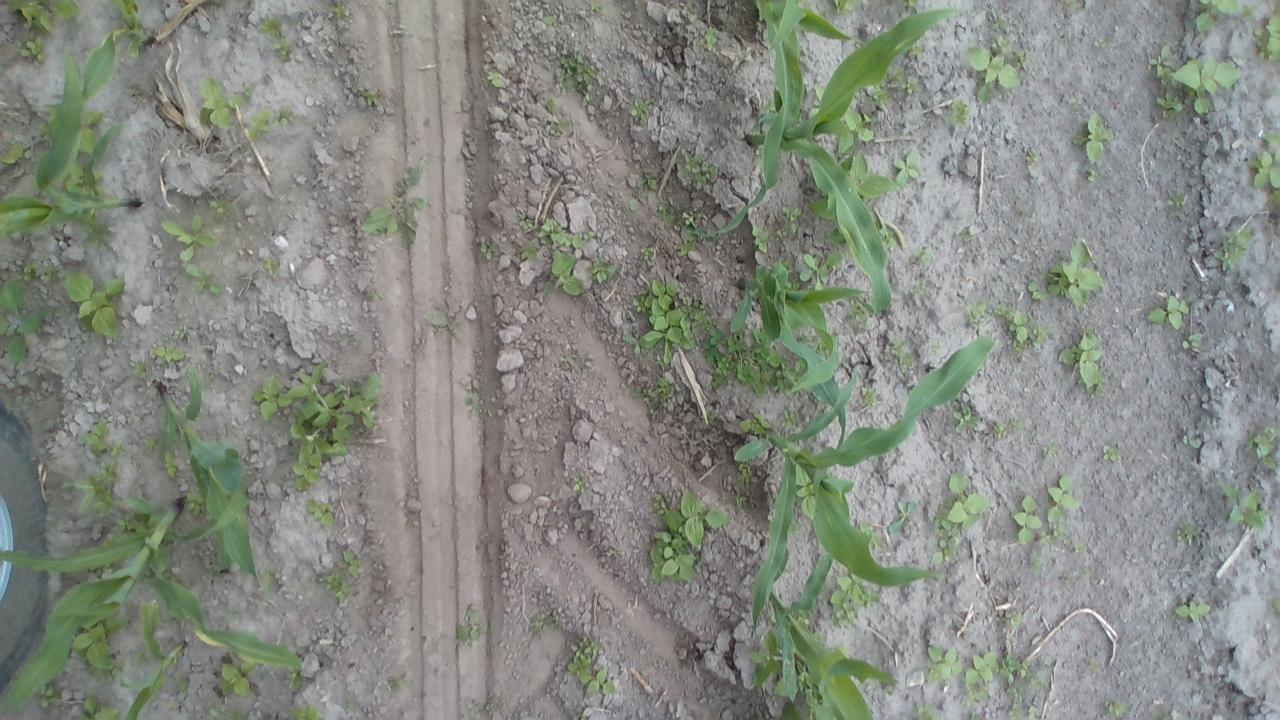Maize: (734, 332, 998, 638), (741, 4, 964, 317), (0, 493, 304, 720), (686, 0, 853, 238), (0, 25, 147, 234), (150, 369, 270, 585), (727, 263, 866, 447), (759, 555, 899, 720), (123, 597, 189, 720), (114, 0, 154, 57)
Weeds: (254, 362, 382, 494), (646, 487, 722, 582), (632, 276, 704, 368), (700, 322, 784, 396), (362, 158, 430, 243), (56, 271, 125, 346), (0, 273, 53, 360), (1172, 56, 1239, 118), (1050, 238, 1104, 304), (968, 34, 1015, 108), (964, 652, 1026, 704), (69, 463, 124, 518), (72, 624, 124, 680), (1063, 329, 1107, 389), (161, 214, 218, 259), (196, 75, 242, 130), (570, 635, 614, 691), (947, 468, 992, 522), (830, 575, 878, 625), (550, 50, 602, 96), (5, 0, 84, 29), (628, 374, 676, 421), (1074, 110, 1116, 160), (1046, 470, 1082, 526), (548, 248, 588, 298), (1192, 0, 1246, 36), (926, 508, 964, 559), (1247, 131, 1280, 188), (1224, 485, 1268, 527), (1214, 228, 1254, 272), (750, 626, 776, 688), (1012, 494, 1044, 544), (258, 14, 292, 61), (1146, 293, 1190, 329), (842, 107, 882, 146), (799, 252, 840, 290), (84, 421, 128, 456), (924, 643, 961, 684), (216, 663, 258, 699), (184, 264, 226, 300), (682, 152, 718, 194), (540, 217, 586, 248), (1250, 426, 1280, 472), (320, 570, 355, 608), (1250, 18, 1280, 62), (654, 198, 698, 226), (151, 341, 194, 369), (456, 605, 486, 645), (303, 496, 340, 526), (246, 109, 275, 146), (892, 148, 922, 182), (890, 498, 918, 534), (796, 472, 816, 521), (22, 255, 61, 280), (779, 204, 808, 236), (888, 342, 921, 369), (860, 522, 889, 552), (0, 142, 29, 172), (1004, 308, 1031, 340), (81, 697, 118, 720), (1174, 522, 1208, 546), (590, 258, 620, 284), (531, 613, 561, 637), (18, 38, 48, 62), (952, 406, 979, 432), (861, 384, 885, 413), (630, 181, 651, 214), (908, 245, 939, 267), (258, 562, 282, 590), (671, 238, 703, 258), (463, 394, 488, 418), (750, 226, 770, 256), (629, 98, 655, 121), (1156, 89, 1178, 116), (1153, 41, 1170, 75), (912, 278, 936, 302), (951, 99, 974, 124), (343, 550, 365, 576), (210, 196, 237, 216), (1173, 602, 1211, 616), (422, 310, 448, 330), (571, 468, 591, 494), (40, 687, 60, 713), (294, 701, 320, 720), (163, 454, 186, 475), (278, 106, 298, 130), (913, 699, 935, 720), (782, 410, 806, 429), (480, 238, 496, 266), (360, 88, 386, 105), (898, 72, 918, 94), (1031, 669, 1050, 692), (966, 300, 984, 324), (994, 420, 1020, 436), (132, 356, 153, 375), (991, 12, 1012, 31), (186, 493, 204, 515), (870, 82, 890, 101), (524, 242, 540, 265), (388, 674, 408, 692), (486, 70, 506, 88), (1024, 145, 1041, 166), (824, 231, 845, 248), (288, 666, 304, 688), (1087, 655, 1106, 673), (1027, 552, 1048, 568), (835, 0, 856, 16), (1040, 445, 1062, 460), (706, 30, 721, 52), (739, 419, 769, 430), (924, 341, 944, 357), (739, 463, 755, 482), (585, 1, 605, 16), (560, 354, 578, 370), (1183, 332, 1199, 350), (1028, 282, 1044, 300), (1010, 610, 1026, 627), (265, 258, 282, 274), (175, 677, 193, 692), (1104, 699, 1126, 711), (644, 172, 660, 188), (1168, 189, 1184, 204), (331, 4, 348, 18), (1102, 445, 1120, 458), (230, 707, 247, 720), (1266, 190, 1280, 205), (1008, 704, 1021, 720), (1070, 543, 1086, 556), (208, 703, 220, 720), (345, 701, 363, 712), (240, 80, 254, 94), (1016, 50, 1030, 63), (1029, 704, 1040, 720), (640, 248, 654, 260), (1049, 526, 1063, 538), (1034, 326, 1046, 340), (1079, 566, 1092, 578), (908, 47, 922, 58), (903, 0, 922, 8), (174, 325, 187, 336), (543, 14, 556, 25), (1060, 574, 1074, 584), (1056, 0, 1078, 6), (1086, 168, 1096, 181), (141, 441, 157, 449), (1272, 597, 1280, 612), (1096, 36, 1105, 47), (523, 220, 533, 228), (992, 304, 1000, 313)
